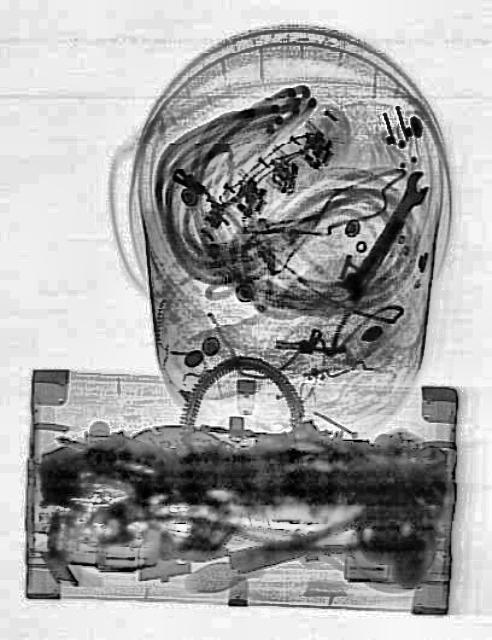Pliers: (229, 511, 371, 573)
Wrench: (336, 163, 434, 303)
